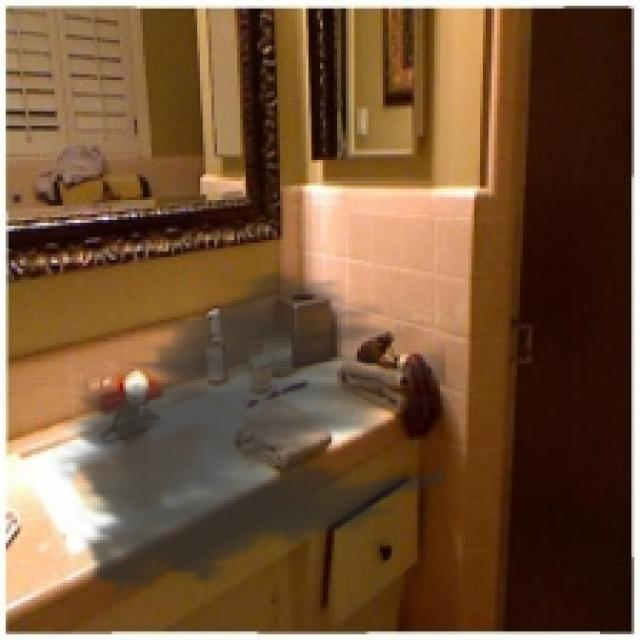smoke: (51, 260, 446, 609)
